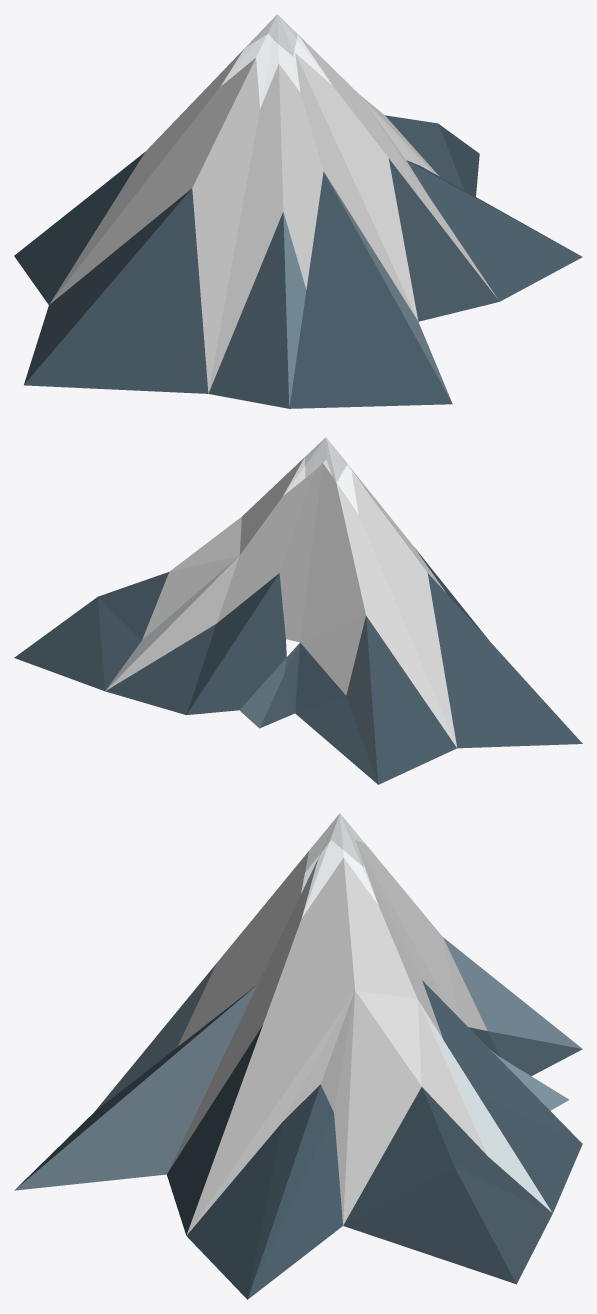
The model's file is Mountain.glb.
3 views of the same model, one above another, from view 1: azimuth 30°, elevation 25°; view 2: azimuth 150°, elevation 25°; view 3: azimuth 270°, elevation 25° (orthographic). The views are drawn at different scales.
Parts seen in each view (by area): view 1: Node; view 2: Node; view 3: Node.
Part boxes in pixels (x1,y1,x2,y2): Node: (14, 14, 582, 408); Node: (14, 437, 582, 784); Node: (14, 813, 582, 1299).
Bounding box in the file's own units: 5.25 × 2.74 × 3.97.
